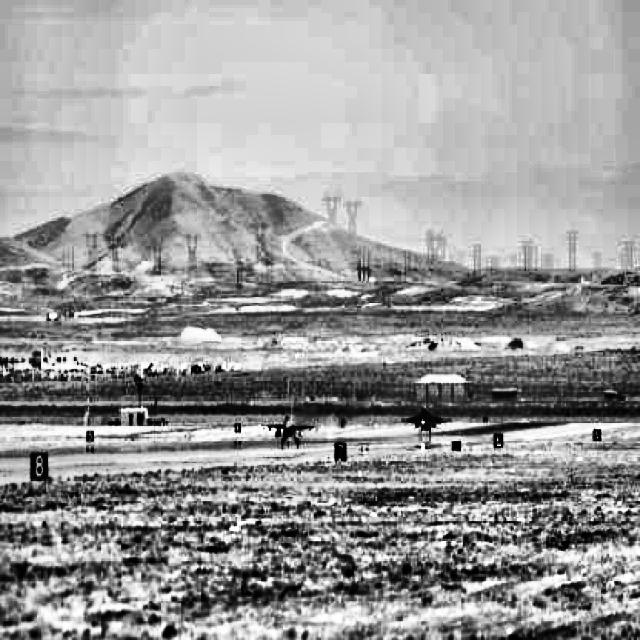F16: (257, 395, 321, 448), (401, 401, 453, 434)
